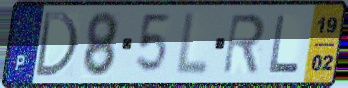5: (133, 11, 172, 77)
8: (80, 9, 121, 80)
D: (32, 9, 80, 79)
L: (172, 9, 211, 78), (267, 13, 302, 75)
R: (220, 11, 267, 77)
